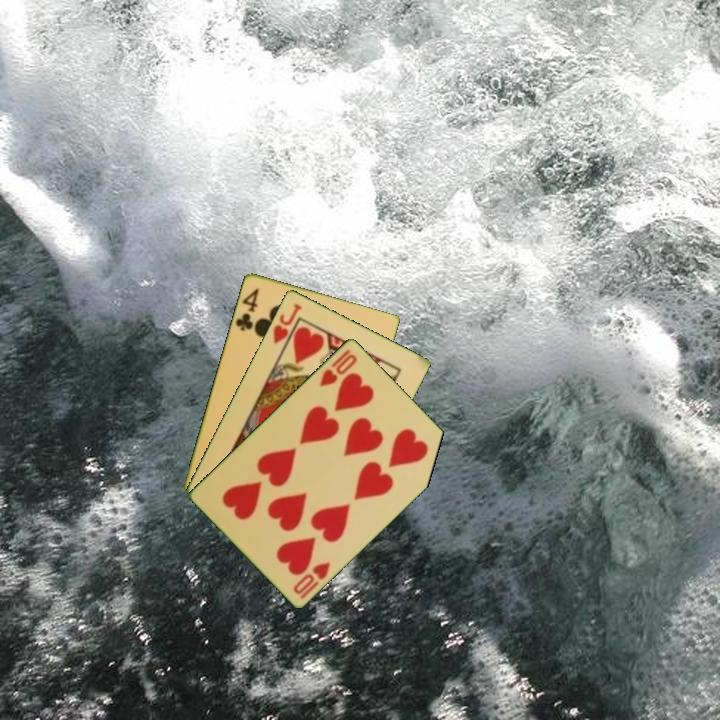10h: (316, 345, 360, 390), (290, 558, 333, 602)
4c: (232, 284, 262, 333)
Jh: (269, 299, 305, 354)
